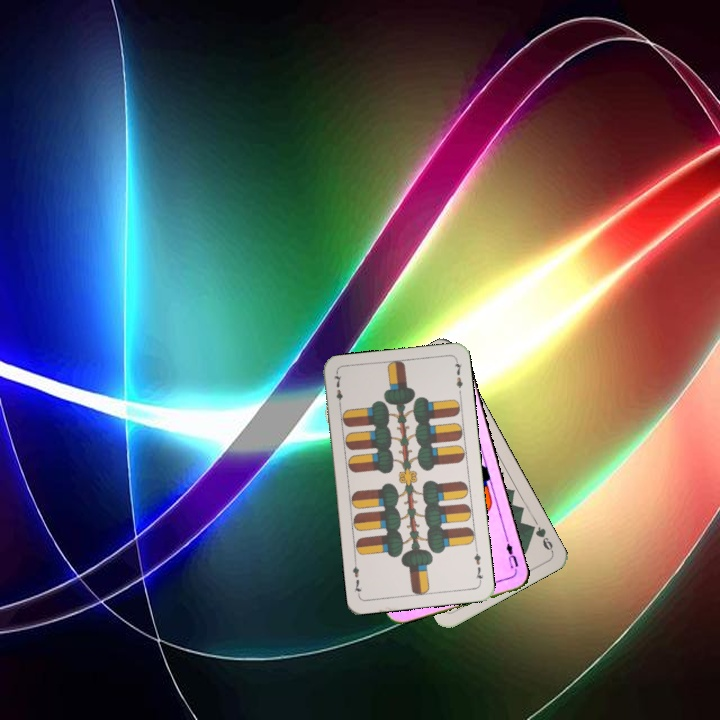E7: (470, 545, 486, 585), (330, 370, 345, 411)
EU: (502, 535, 521, 575)
G9: (525, 521, 556, 555)
